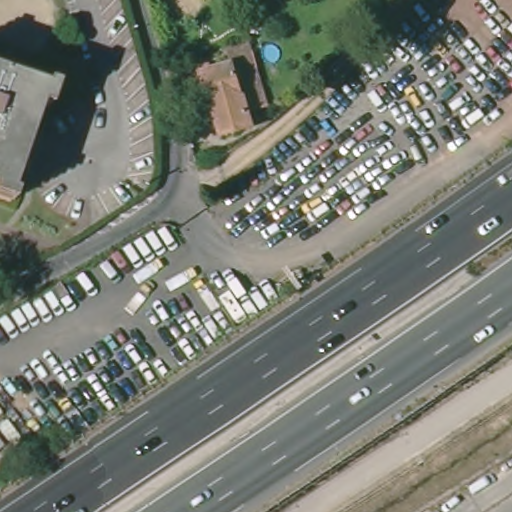pool: (262, 41, 283, 65)
